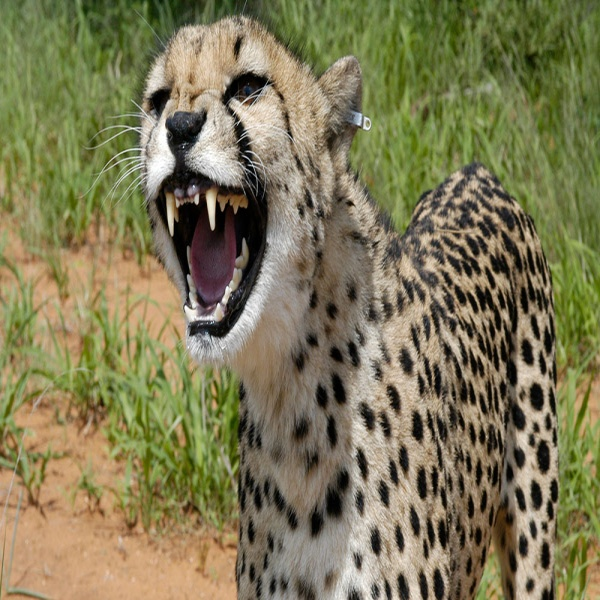Cheetah: (121, 11, 561, 600)
